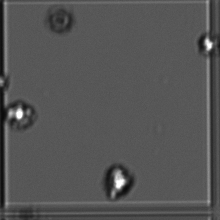Dead Cell: (47, 7, 72, 34)
Living Cell: (101, 161, 134, 199), (6, 99, 37, 129), (196, 30, 217, 55)
